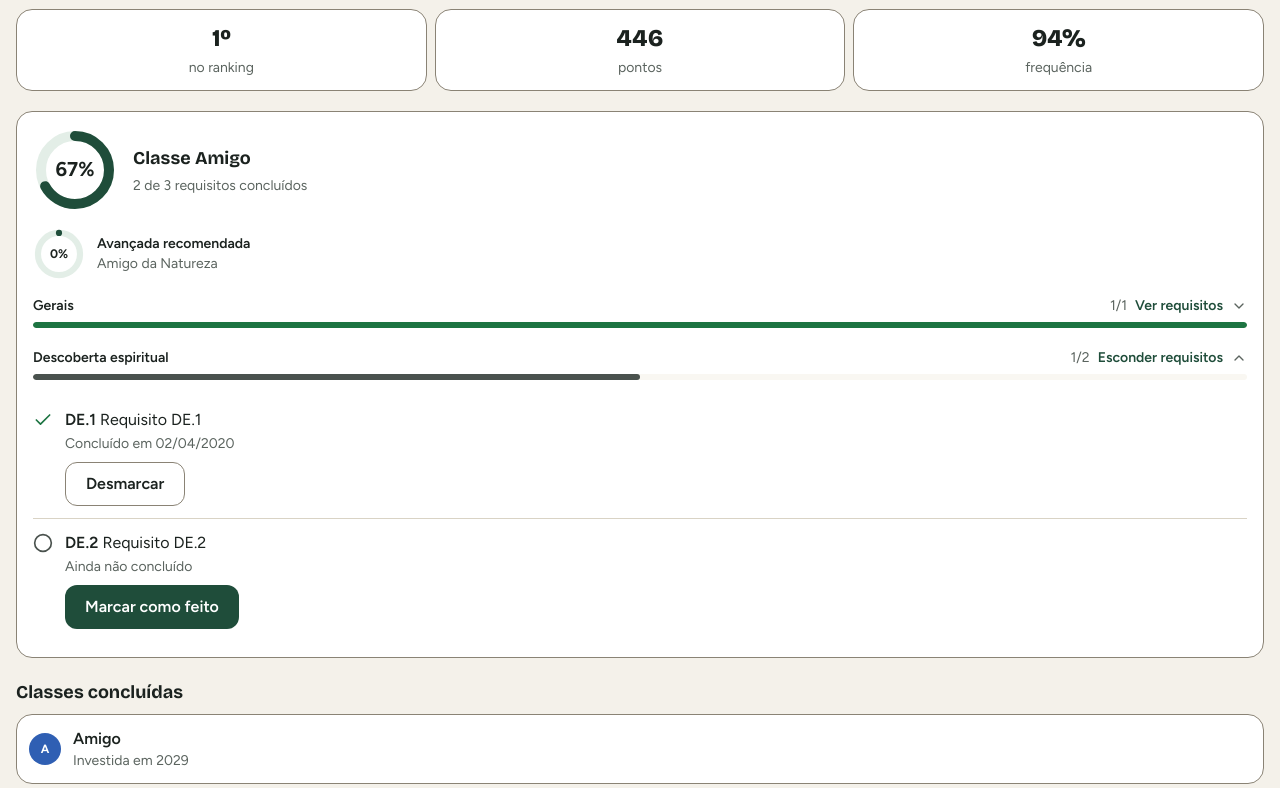
it: seção de progresso do perfil › 409 mostra "Já concluído em dd/mm." e 422 mostra a mensagem da API
The width and height of the screenshot is (1280, 788).
(page scrolled)
Click the button with aria-label "Marcar DE.2": {"x": 152, "y": 607} [65,585,239,629]
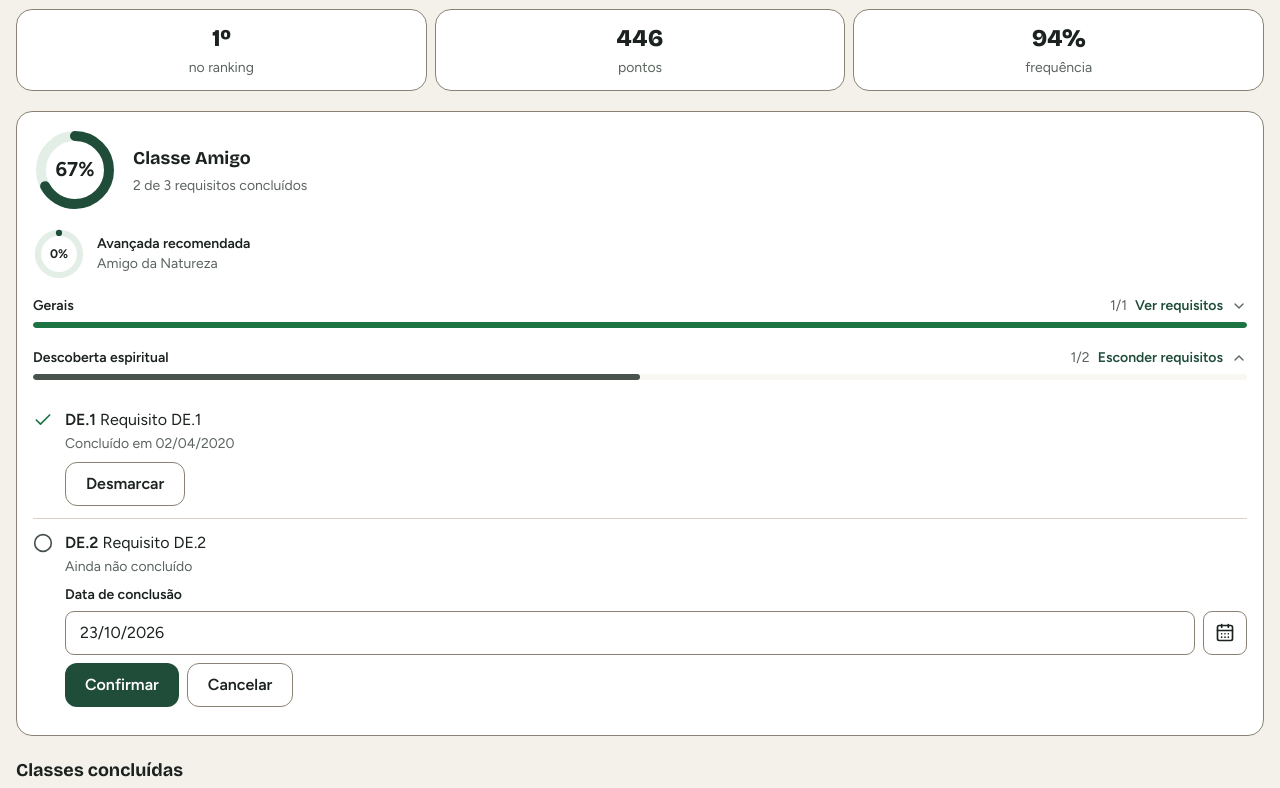
Click the button "Confirmar": {"x": 122, "y": 685} [65,663,179,707]
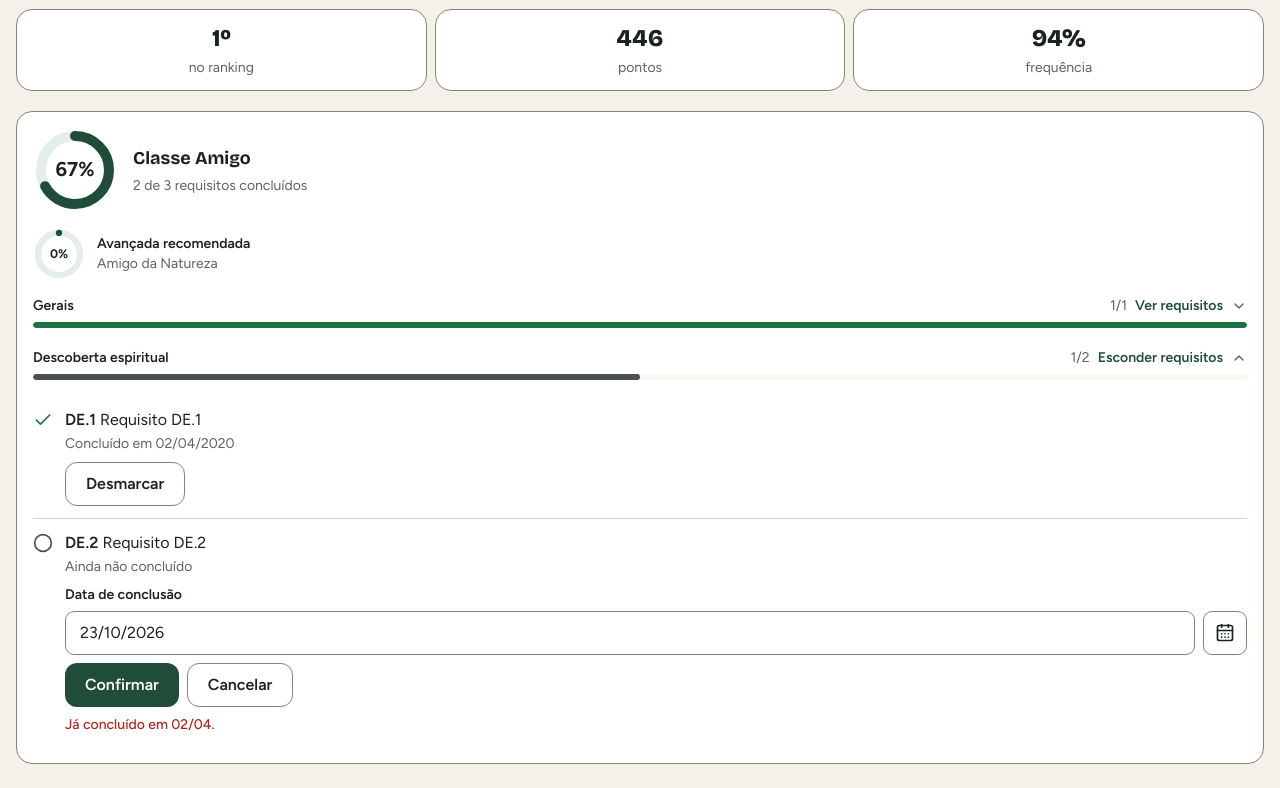
expect the text "Já concluído em 02/04." is shown: met, box [65,716,215,733]
Click the button "Confirmar": {"x": 122, "y": 685} [65,663,179,707]
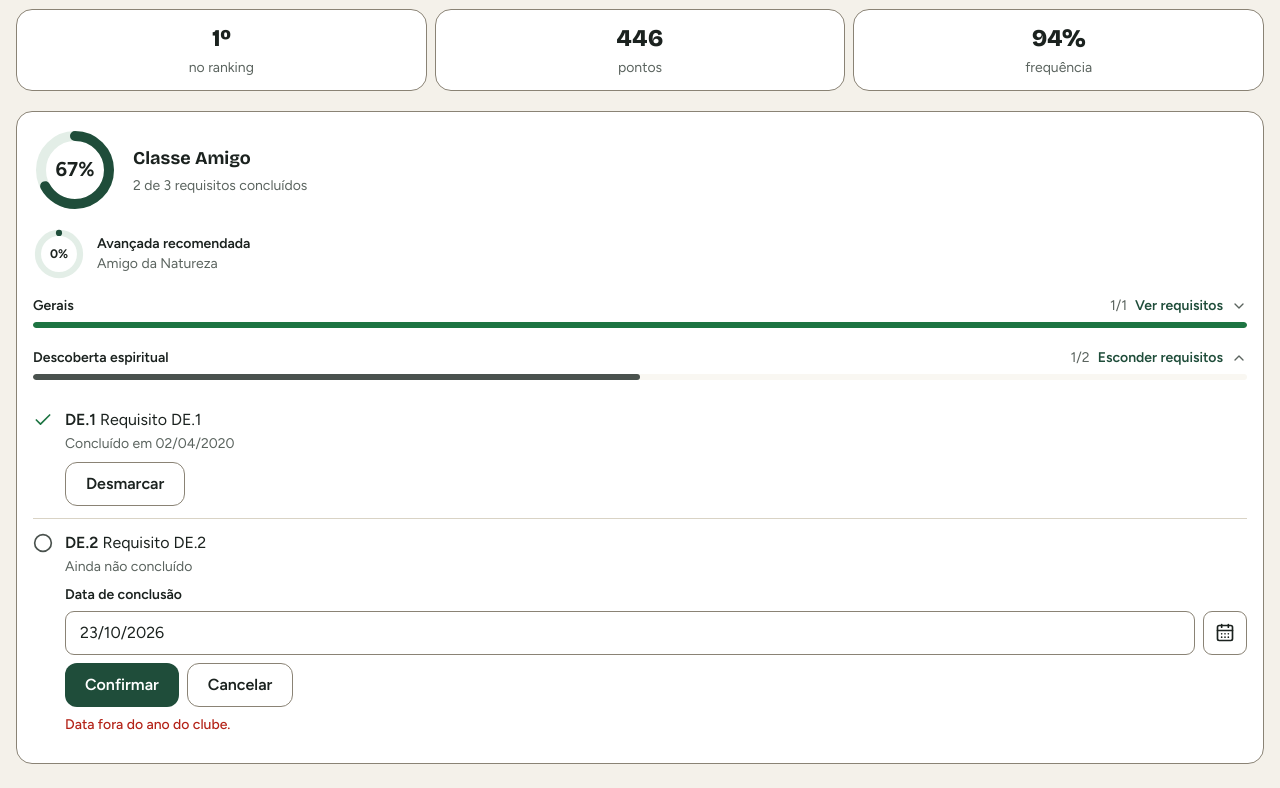
expect the text "Data fora do ano do clube." is shown: met, box [65,716,230,733]
